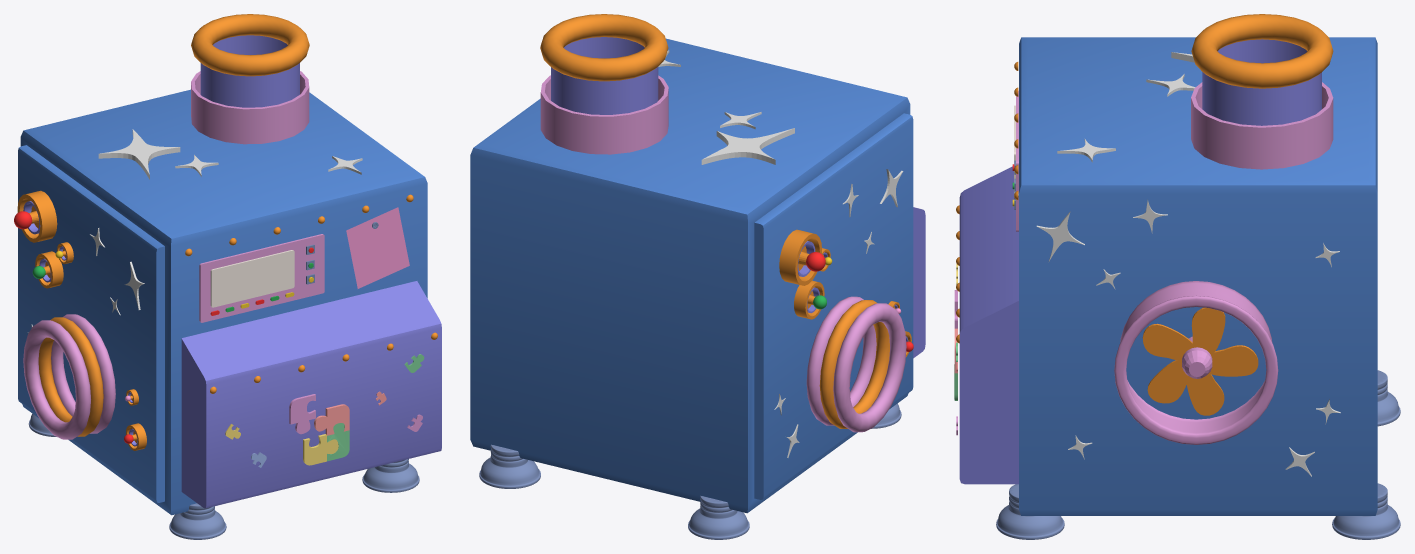
Rendered from machine.fbx.
3 views of the same model, side by side, from view 1: azimuth 30°, elevation 25°; view 2: azimuth 150°, elevation 25°; view 3: azimuth 270°, elevation 25° (orthographic). The views are drawn at different scales.
Visible parts, largest first — view 1: Box001, Box002, Torus004, Cylinder010, Cylinder009, Box003, Torus001, Plane001, Box004, Torus002, Torus003, Cylinder001 (+8 smaller); view 2: Box001, Torus004, Cylinder010, Cylinder009, Torus001, Torus002, Torus003, Cylinder004, Cylinder003, Box002, Line014, Cylinder014 (+1 smaller); view 3: Box001, Box002, Cylinder027, Torus004, Cylinder010, Cylinder009, Cylinder004, Cylinder002, Line021, Line019, Line020, Line022 (+4 smaller).
Part boxes in pixels (x1=…): Box001: x1=18, y1=89, x2=427, y2=515; Box002: x1=181, y1=281, x2=441, y2=508; Torus004: x1=191, y1=14, x2=309, y2=76; Cylinder010: x1=191, y1=71, x2=309, y2=144; Cylinder009: x1=200, y1=35, x2=299, y2=107; Box003: x1=199, y1=234, x2=324, y2=322; Torus001: x1=23, y1=320, x2=90, y2=439; Plane001: x1=346, y1=207, x2=409, y2=288; Box004: x1=210, y1=250, x2=294, y2=307; Torus002: x1=38, y1=317, x2=103, y2=436; Torus003: x1=51, y1=314, x2=115, y2=433; Cylinder001: x1=169, y1=503, x2=226, y2=539; Box001: x1=470, y1=38, x2=913, y2=513; Torus004: x1=540, y1=14, x2=668, y2=81; Cylinder010: x1=540, y1=75, x2=668, y2=154; Cylinder009: x1=551, y1=37, x2=658, y2=114; Torus001: x1=833, y1=303, x2=906, y2=432; Torus002: x1=819, y1=300, x2=889, y2=428; Torus003: x1=806, y1=296, x2=876, y2=425; Cylinder004: x1=479, y1=444, x2=540, y2=488; Cylinder003: x1=688, y1=495, x2=749, y2=539; Box002: x1=913, y1=207, x2=925, y2=358; Line014: x1=701, y1=128, x2=794, y2=164; Cylinder014: x1=779, y1=229, x2=821, y2=285; Box001: x1=1019, y1=37, x2=1377, y2=515; Box002: x1=959, y1=166, x2=1018, y2=484; Cylinder027: x1=1114, y1=281, x2=1278, y2=444; Torus004: x1=1191, y1=14, x2=1333, y2=88; Cylinder010: x1=1191, y1=82, x2=1333, y2=169; Cylinder009: x1=1202, y1=39, x2=1321, y2=125; Cylinder004: x1=1332, y1=483, x2=1400, y2=539; Cylinder002: x1=996, y1=484, x2=1064, y2=539; Line021: x1=1142, y1=323, x2=1193, y2=361; Line019: x1=1209, y1=345, x2=1258, y2=376; Line020: x1=1191, y1=307, x2=1225, y2=355; Line022: x1=1147, y1=360, x2=1191, y2=403.
Bounding box in the file's own units: 7947 × 8661 × 7609.
